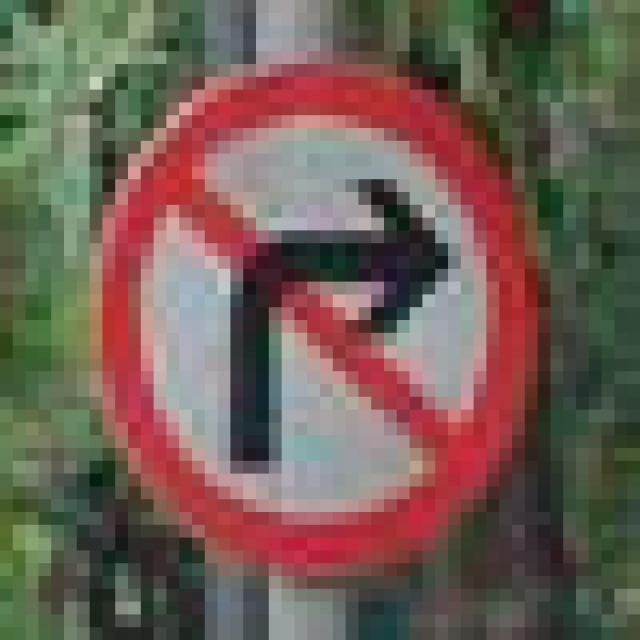right turn prohibited: (97, 61, 534, 565)
